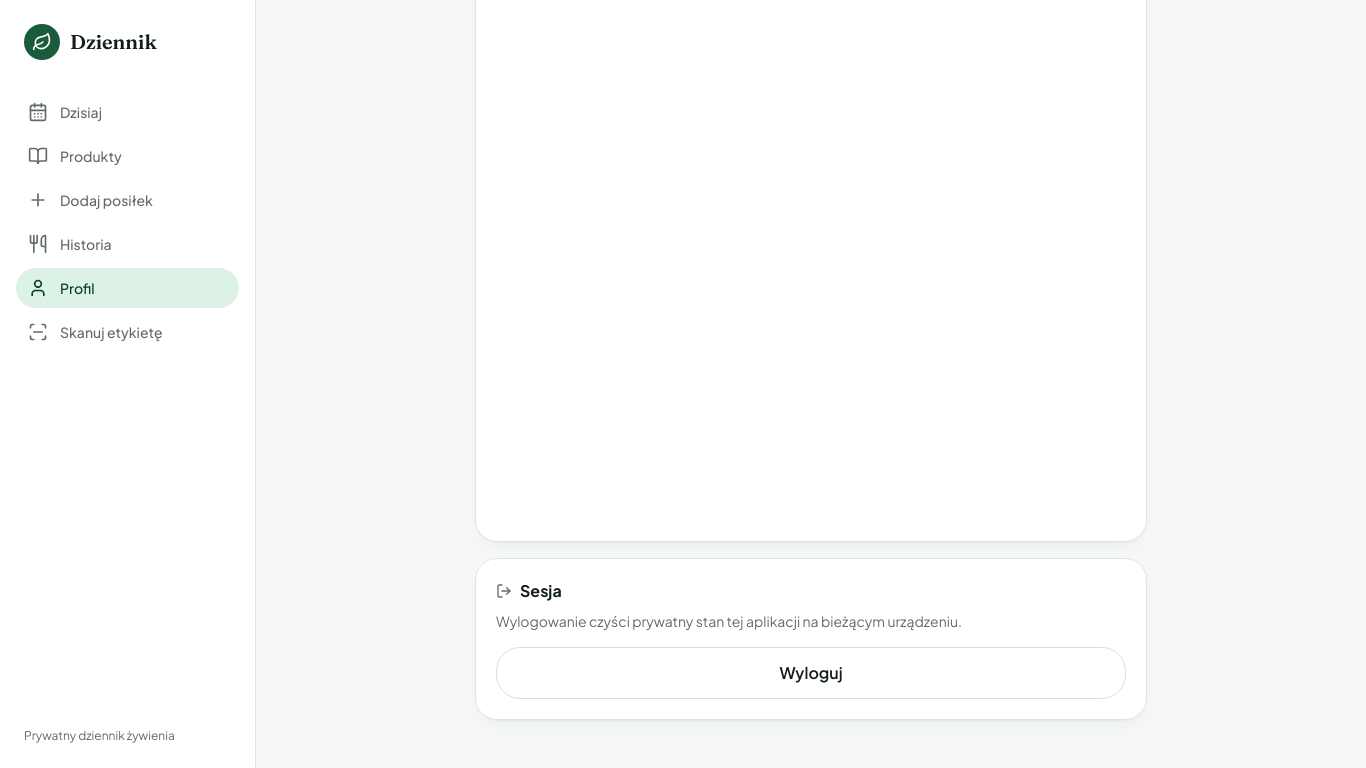
Test: session screens › logs out from the profile and returns to login
(page scrolled)
Click the button "Wyloguj" at (811, 673), box [496, 647, 1126, 699]
(page scrolled)
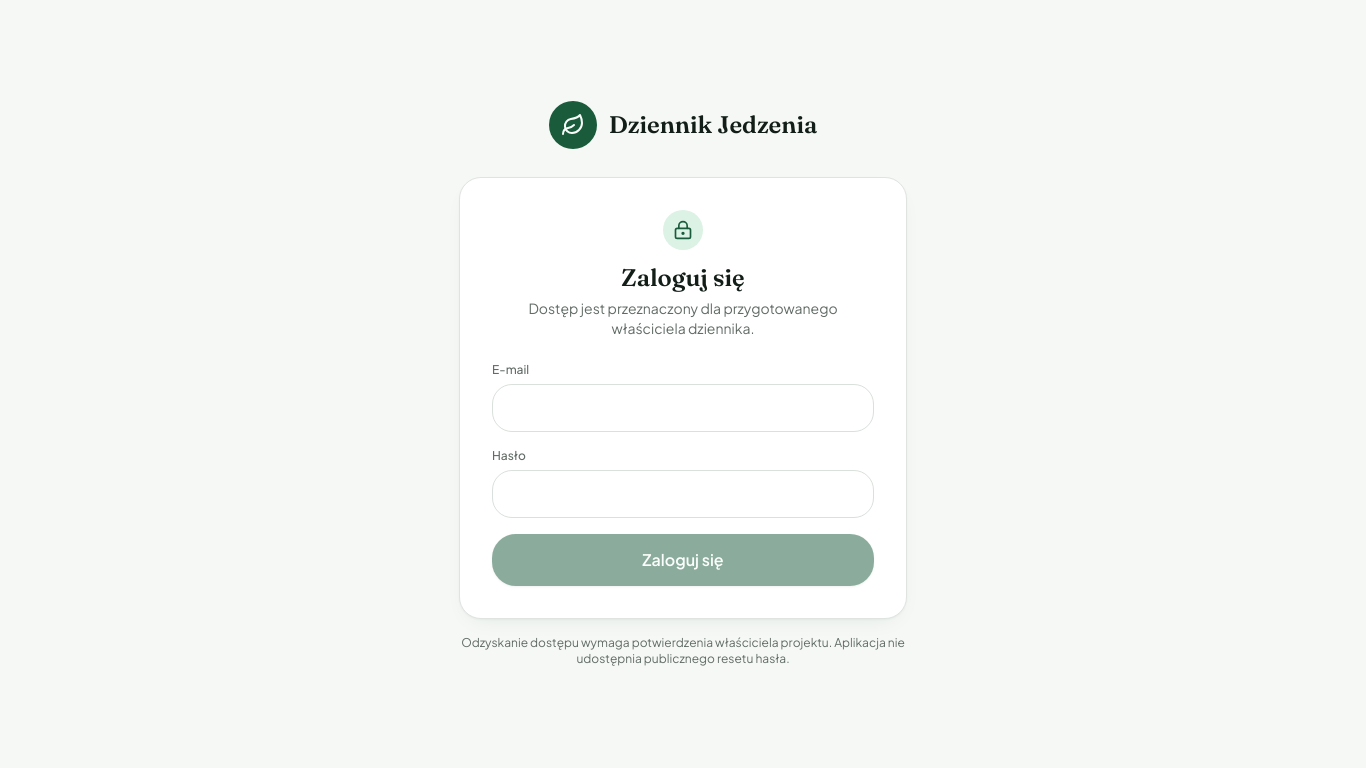
Result: the heading "Zaloguj się" is shown at [621, 263, 745, 292]
